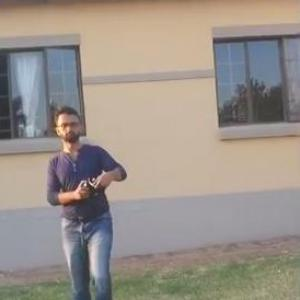follow: (40, 96, 132, 299)
